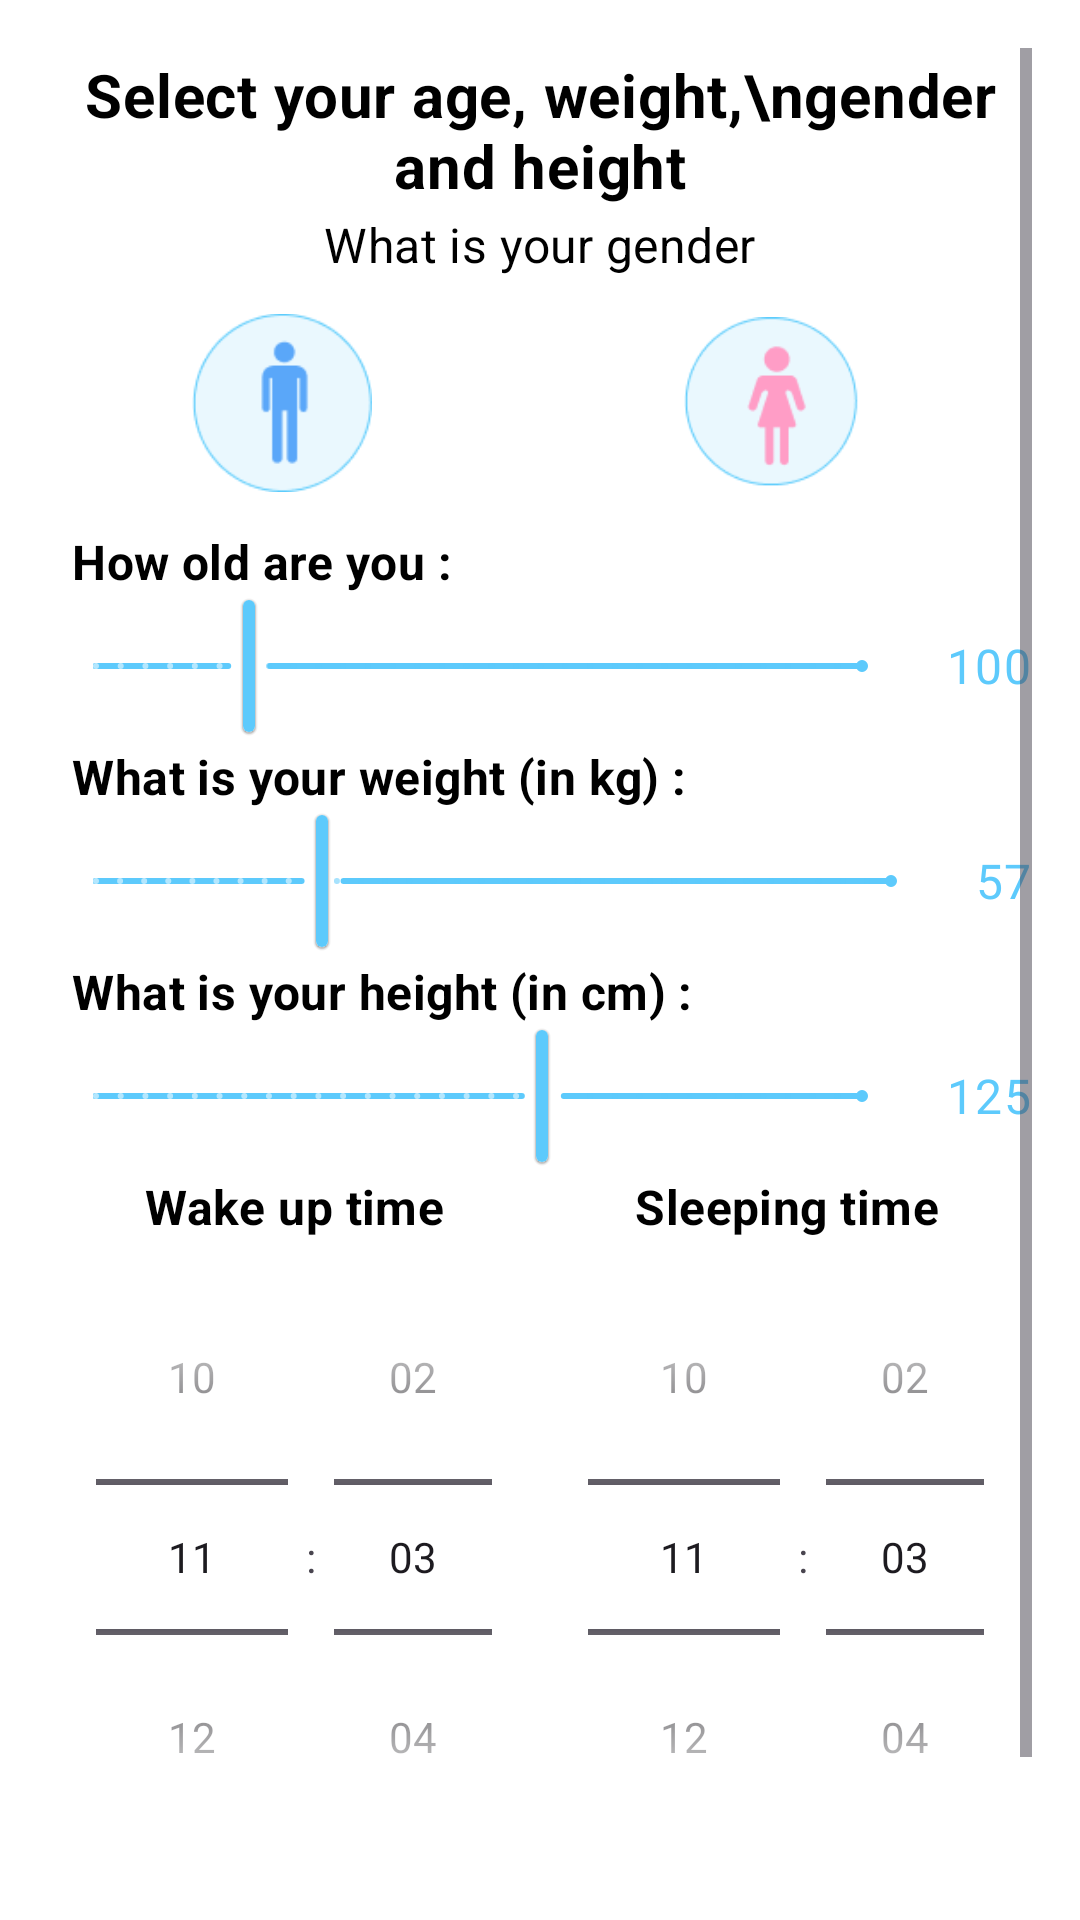

Icons on this 1080*1920 Android screen, each with the point to tap as (x,y):
female: (771,401)
male: (282,403)
